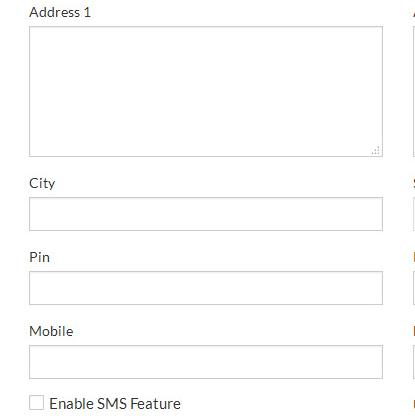checkbox: (27, 391, 45, 413)
checkbox_with_label: (21, 390, 184, 416)
field: (26, 23, 385, 159), (28, 195, 385, 235), (26, 269, 384, 308), (25, 345, 386, 380)
field_with_label: (24, 5, 389, 163), (24, 176, 388, 237), (20, 324, 389, 384), (21, 250, 387, 310)
